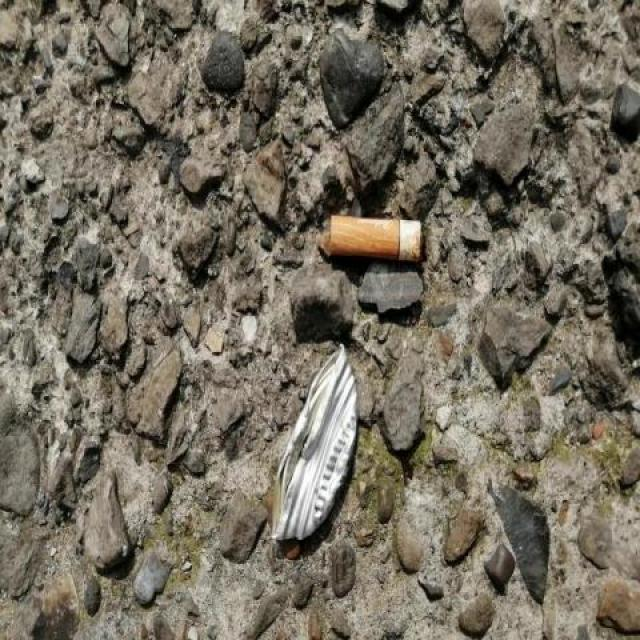non-organic waste: (325, 210, 430, 271)
